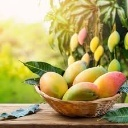mango: (39, 72, 69, 102)
